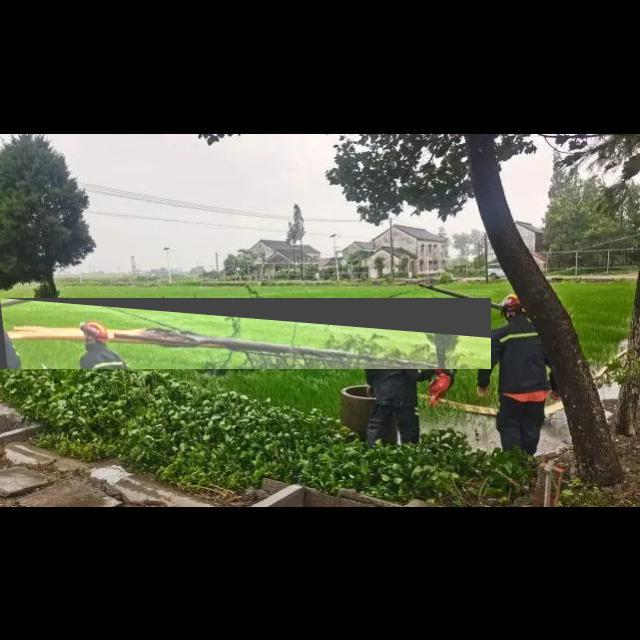fallen_tree: (0, 298, 492, 370)
